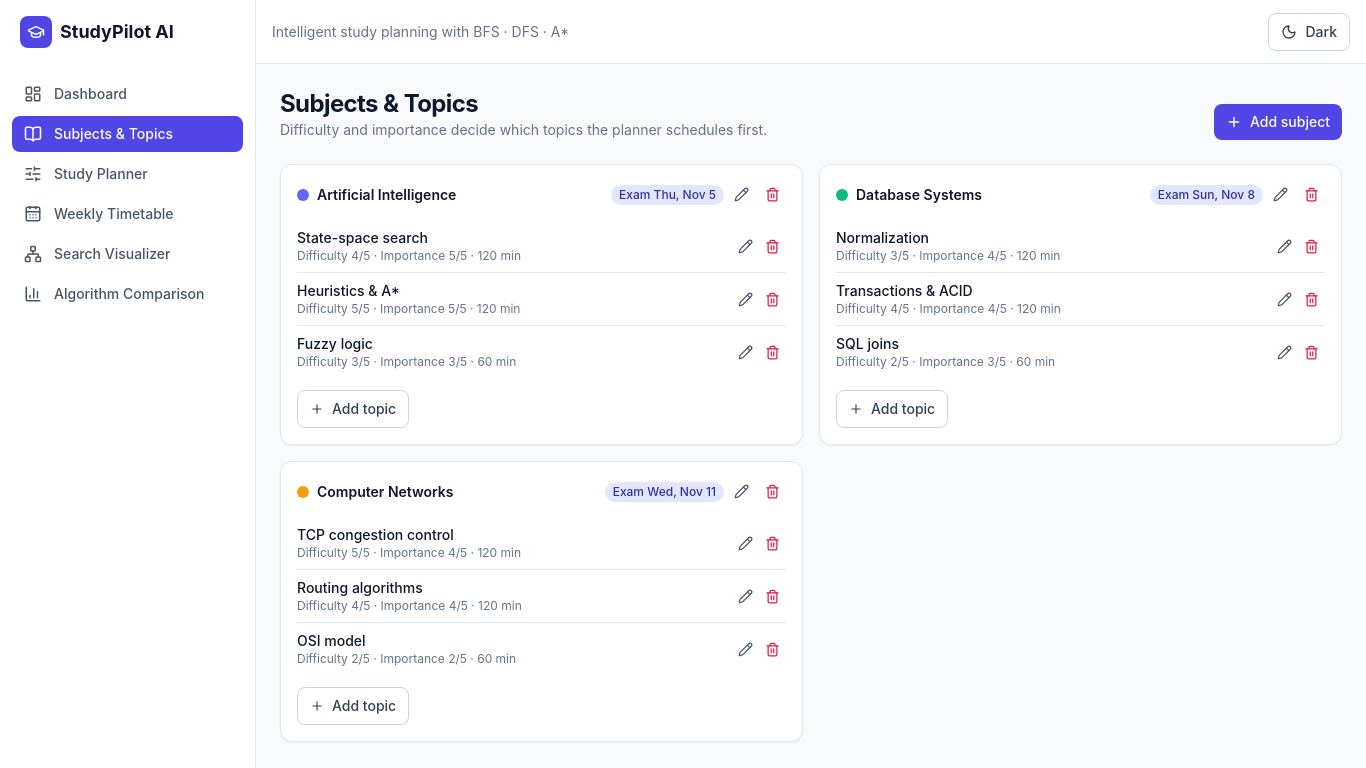
Test case: StudyPilot AI app › rejects an invalid topic duration with an accessible error
Click the button "Add topic" below "Fuzzy logic" at (353, 409), box [297,390,409,428]
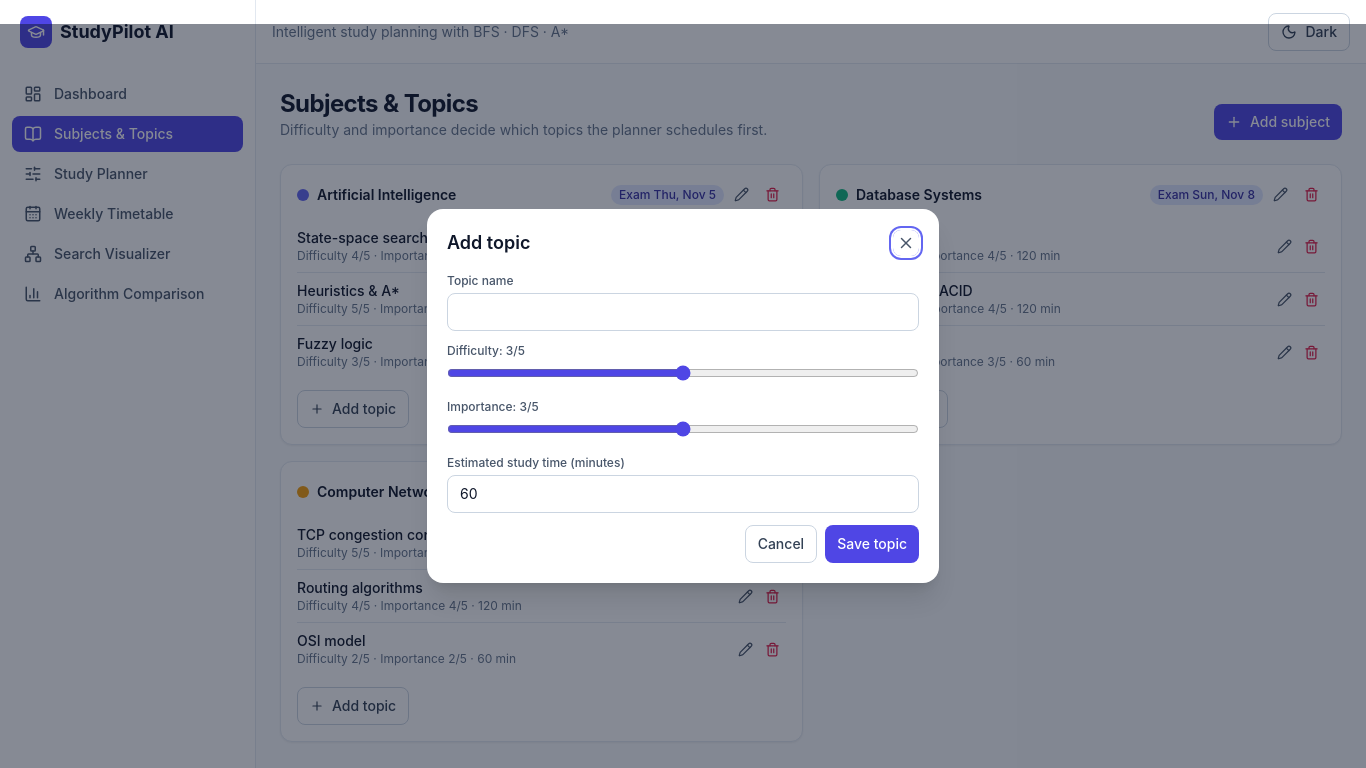
Type "X" into the field labelled "Topic name" at (683, 312), box [447,293,919,331]
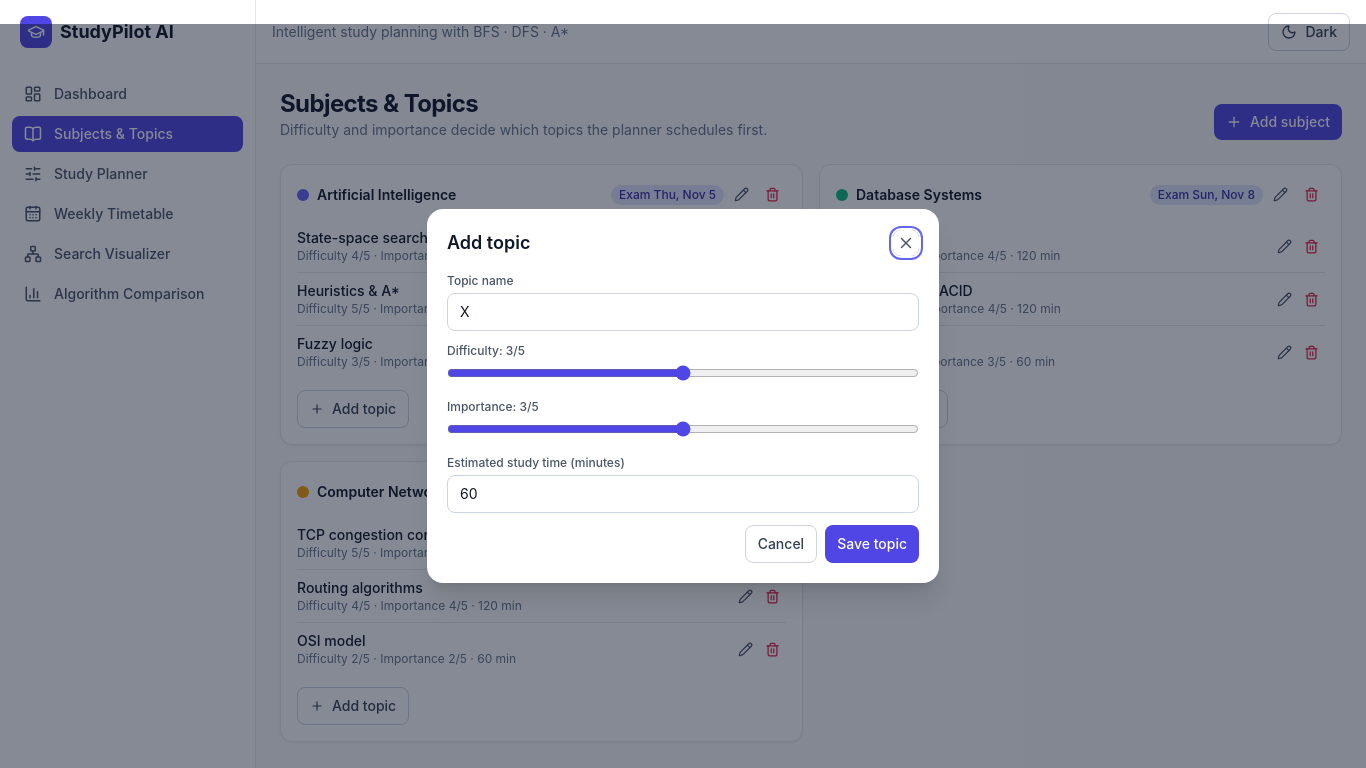
Replace the text in the number field labelled "Estimated study time (minutes)" with "5" at (683, 494), box [447,475,919,513]
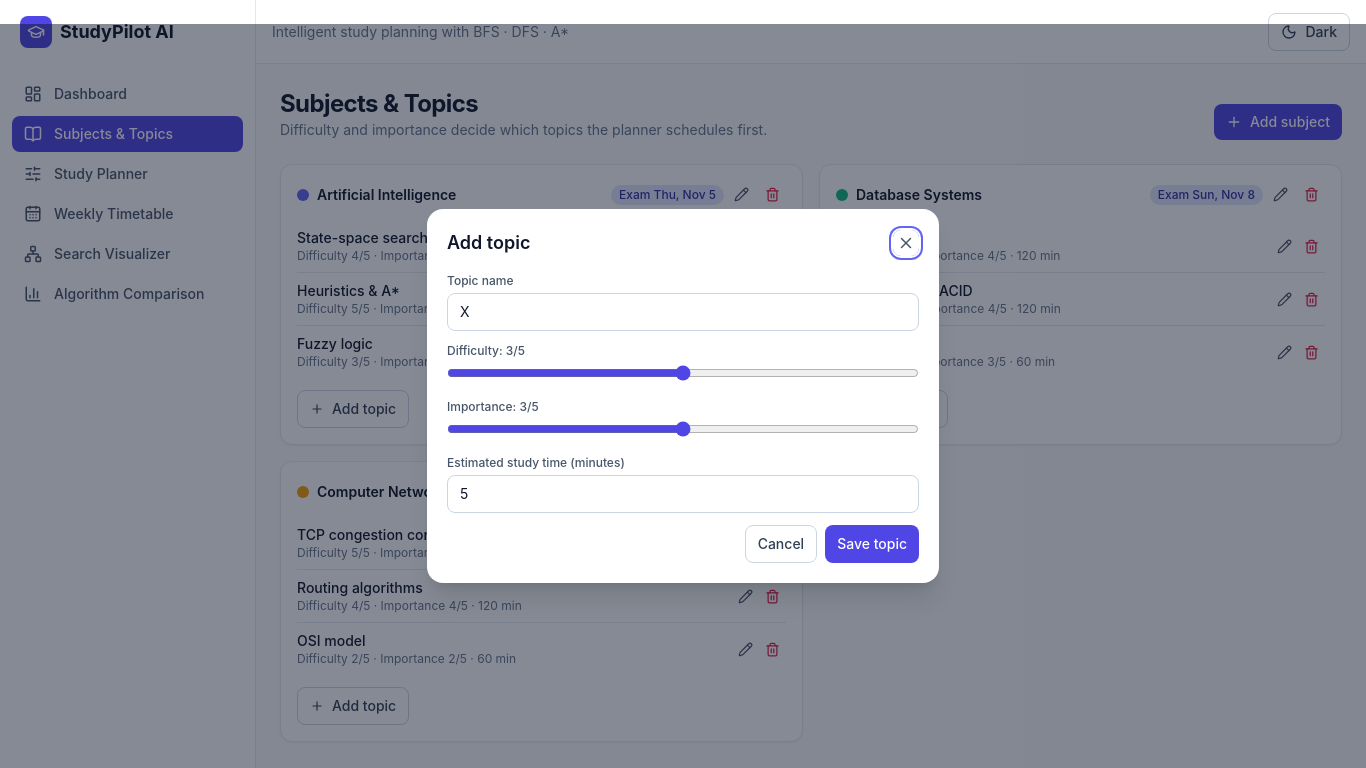
Click the button "Save topic" at (872, 544), box [825,525,919,563]
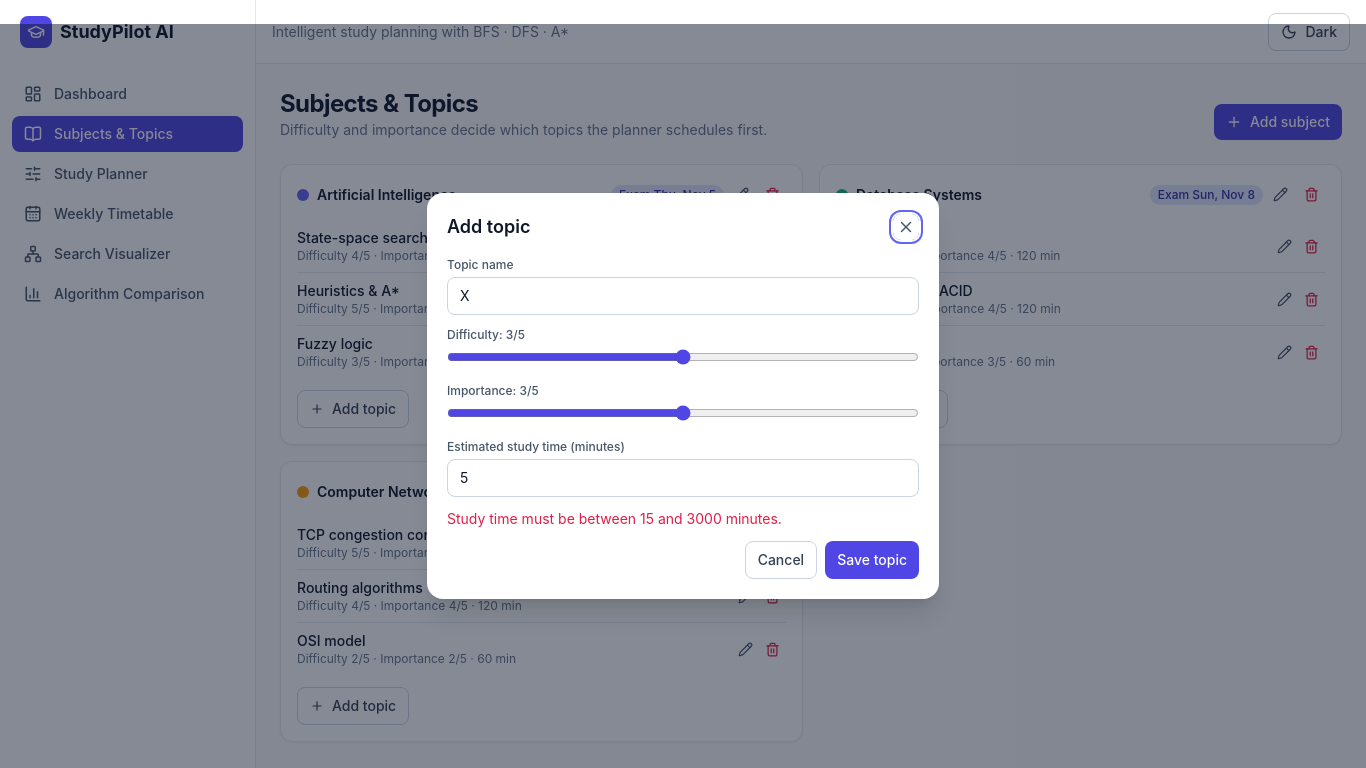
Expected: the message shows "between 15 and 3000", [447,510,782,527]
